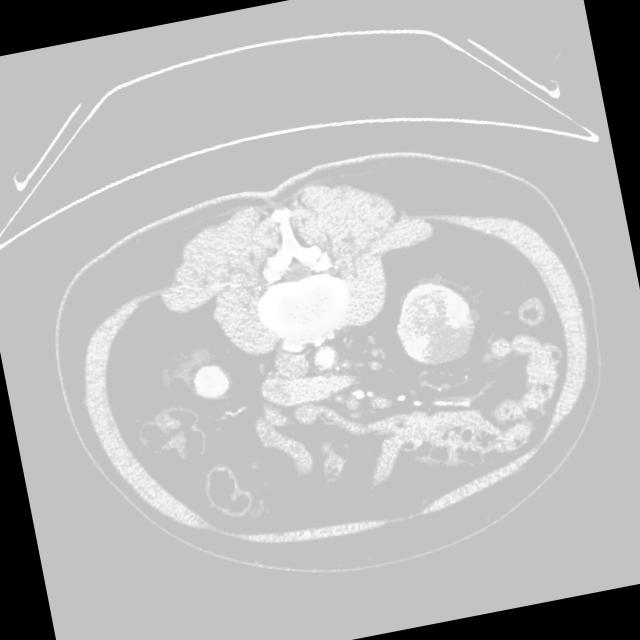TUMOR: (202, 240, 520, 480)
